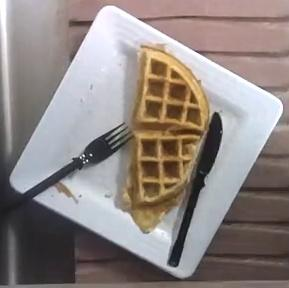waffle: (121, 46, 209, 232)
